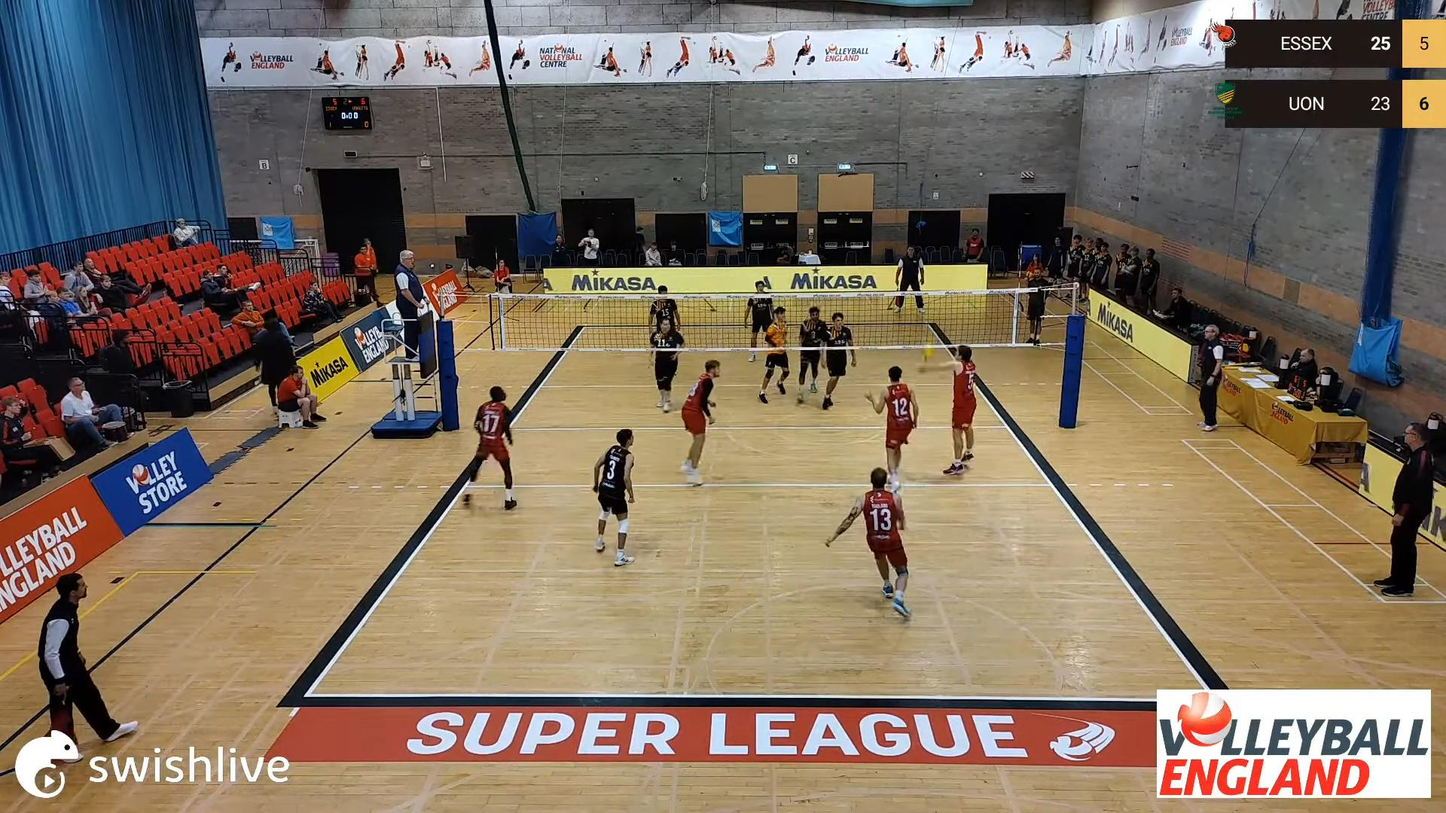alzata: (919, 338, 983, 480)
